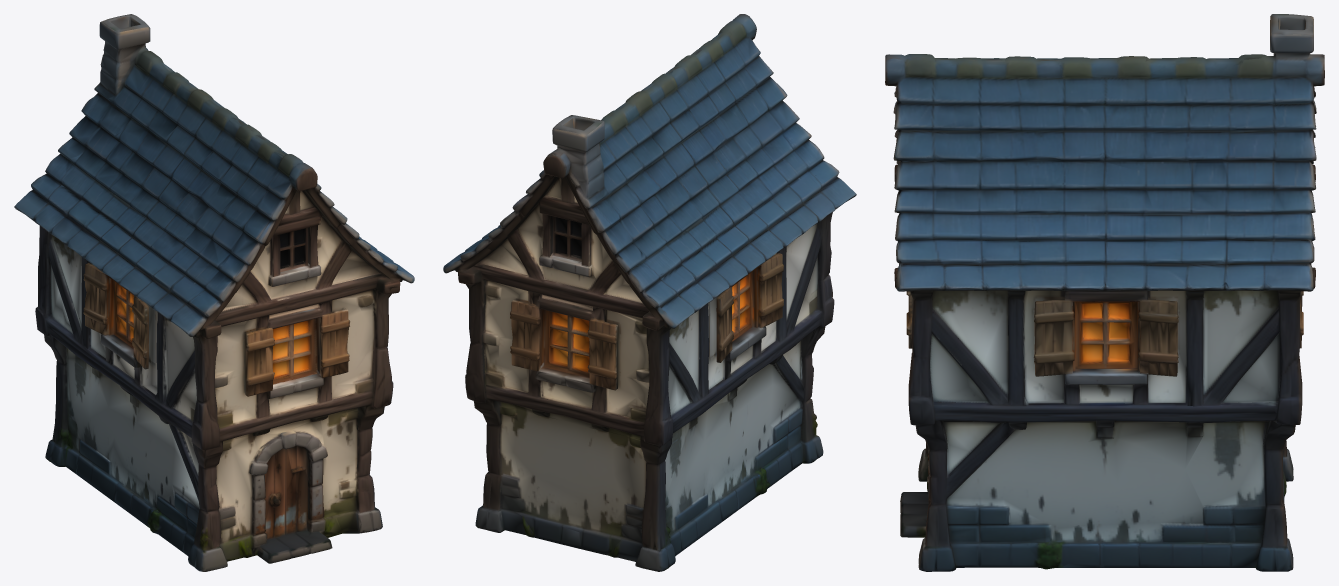
The model's file is shop_townhouse.glb.
The picture shows the model from 3 angles, left to right: view 1: azimuth 30°, elevation 25°; view 2: azimuth 150°, elevation 25°; view 3: azimuth 270°, elevation 25°; orthographic projection. The views are drawn at different scales.
Parts seen in each view (by area): view 1: node_0; view 2: node_0; view 3: node_0.
Boxes of the visible parts, <box> form: node_0: <box>14,14,414,571</box>; node_0: <box>443,14,856,571</box>; node_0: <box>885,14,1324,571</box>.
Size of the model in its own units: 0.5338 by 0.9267 by 0.7524.
1 material, 1 textured.
